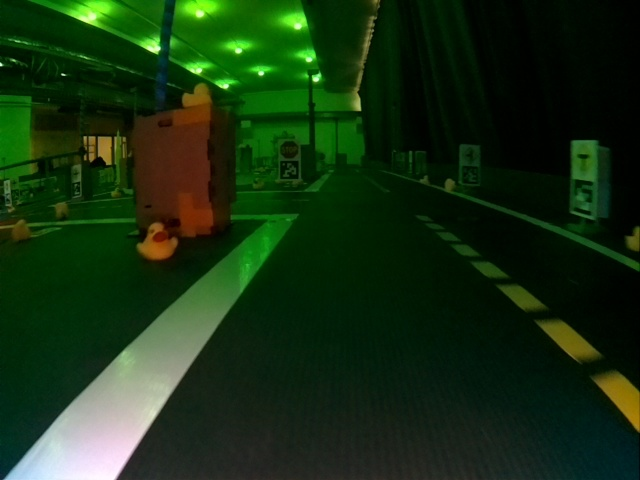Duckie: (139, 224, 176, 259), (182, 84, 210, 106), (13, 220, 30, 240), (444, 178, 455, 190)
Intersection sign: (571, 142, 596, 171), (462, 145, 480, 165)
QR code: (570, 181, 597, 217), (281, 162, 299, 179), (460, 168, 479, 183)
Stop sign: (278, 141, 300, 159)
